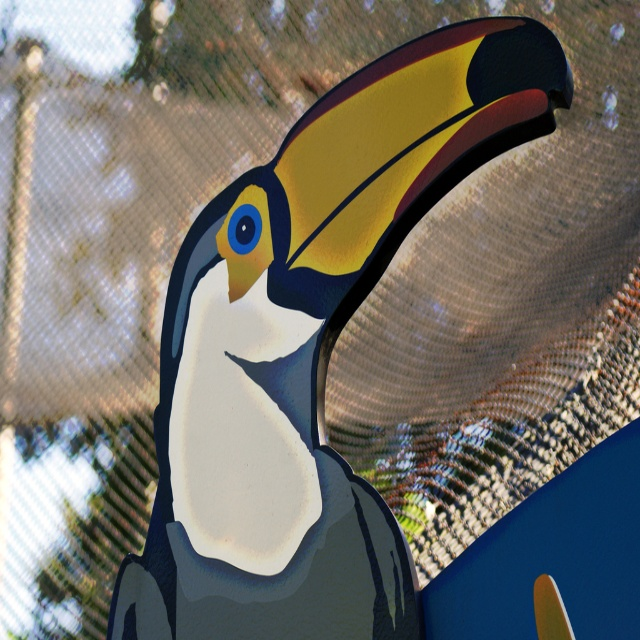Penguin: (155, 20, 506, 638)
